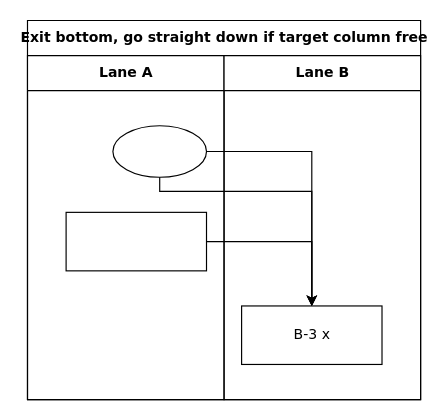
This 447x420 diagram has some shape labels left out. Each missing label, with the centre of its shape:
"A-1 x" goes at point 159,151.
"A-2 x" goes at point 136,241.
